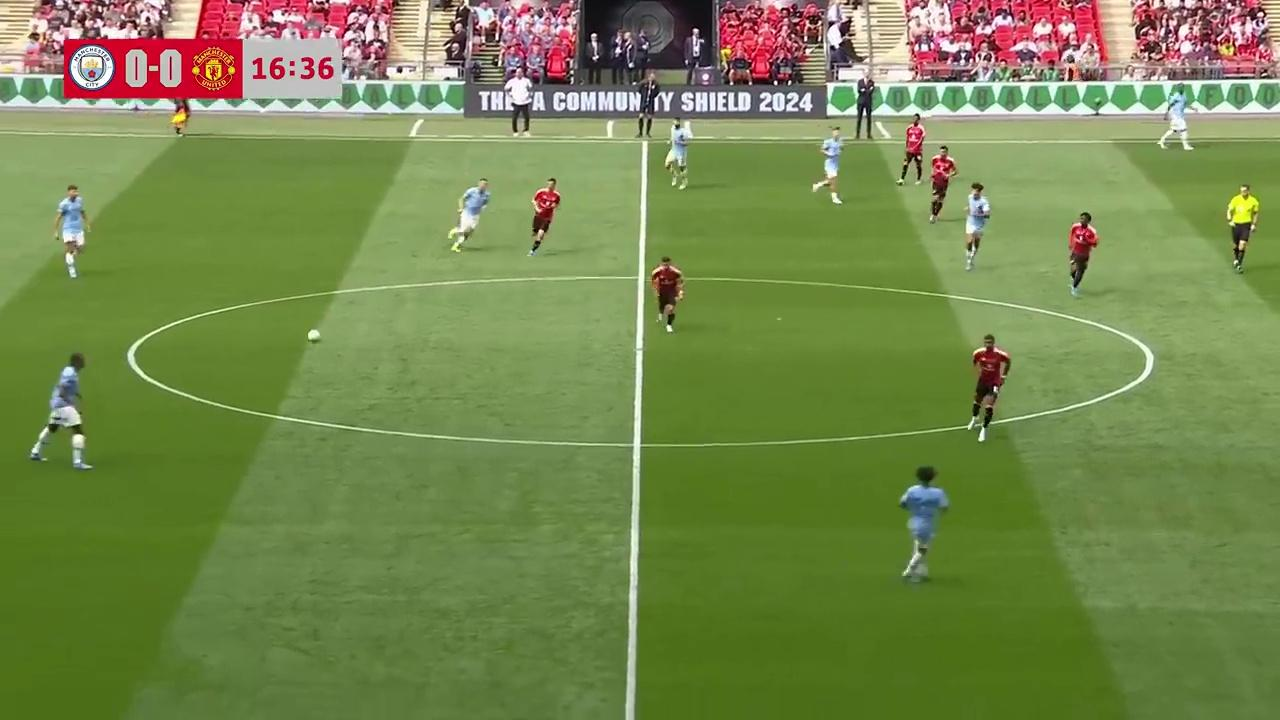ball: (305, 326, 321, 344)
player: (29, 353, 92, 466), (898, 464, 950, 584), (966, 333, 1011, 436), (448, 179, 490, 251), (55, 189, 87, 278), (649, 255, 685, 333), (811, 126, 845, 205), (1067, 211, 1098, 296), (528, 177, 560, 256), (964, 182, 991, 270), (927, 145, 958, 221), (897, 114, 927, 186), (665, 118, 692, 189)
referee: (1225, 184, 1259, 272), (169, 96, 189, 137)
